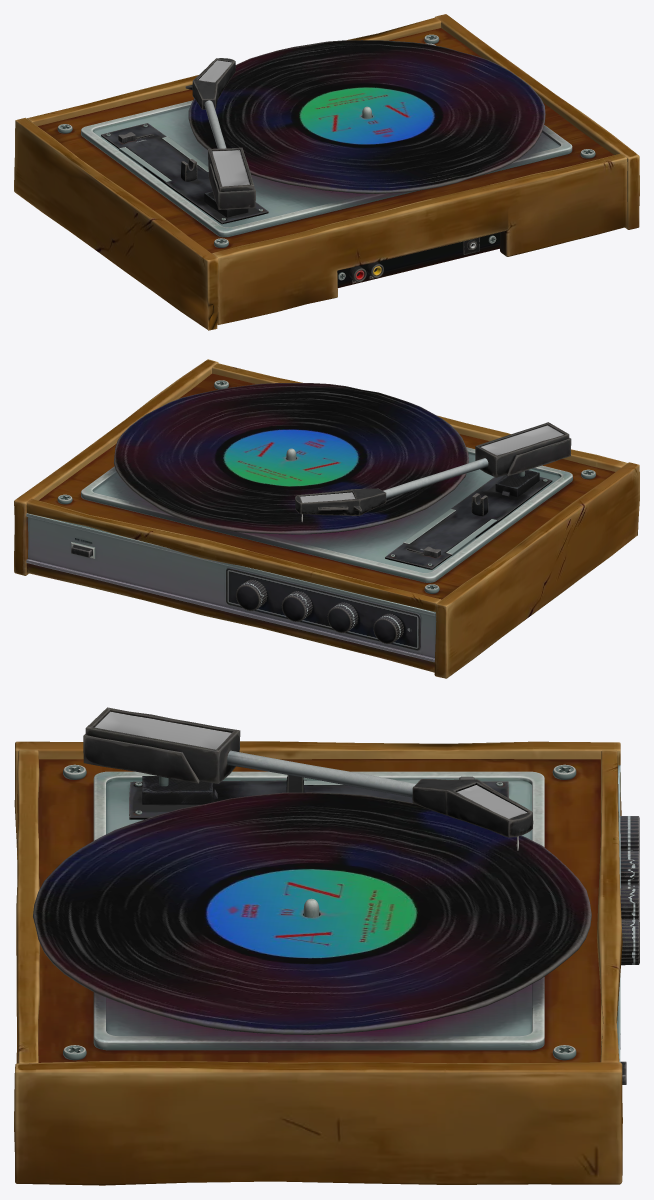
The model's file is vinyl_player_optimized.glb.
The picture shows the model from 3 angles, top to bottom: view 1: azimuth 30°, elevation 25°; view 2: azimuth 150°, elevation 25°; view 3: azimuth 270°, elevation 25°; orthographic projection. The views are drawn at different scales.
Parts seen in each view (by area): view 1: Object_4, Object_18, Object_16, Object_5, Object_7, Object_10, Object_12, Object_9, Object_15, Object_17, Object_11; view 2: Object_18, Object_4, Object_5, Object_16, Object_7, Object_10, Object_6, Object_12, Object_11, Object_9, Object_17; view 3: Object_18, Object_4, Object_16, Object_5, Object_10, Object_7, Object_12, Object_6, Object_11, Object_17.
Part boxes in pixels (x1,y1,x2,y2): Object_4: [14, 14, 639, 330]; Object_18: [188, 40, 545, 193]; Object_16: [38, 28, 614, 287]; Object_5: [81, 43, 572, 237]; Object_7: [101, 123, 268, 224]; Object_10: [208, 147, 255, 209]; Object_12: [185, 58, 235, 109]; Object_9: [119, 106, 372, 181]; Object_15: [349, 237, 479, 282]; Object_17: [57, 34, 595, 280]; Object_11: [204, 100, 226, 148]; Object_18: [113, 383, 468, 534]; Object_4: [14, 359, 639, 678]; Object_5: [26, 447, 572, 662]; Object_16: [39, 373, 615, 599]; Object_7: [226, 470, 552, 650]; Object_10: [475, 422, 571, 477]; Object_6: [236, 579, 403, 643]; Object_12: [295, 488, 386, 515]; Object_11: [383, 458, 488, 498]; Object_9: [71, 448, 524, 558]; Object_17: [57, 380, 595, 593]; Object_18: [33, 792, 591, 1034]; Object_4: [14, 741, 622, 1185]; Object_16: [38, 759, 600, 1063]; Object_5: [93, 765, 620, 1061]; Object_10: [83, 707, 240, 783]; Object_7: [129, 775, 508, 819]; Object_12: [412, 779, 533, 837]; Object_6: [620, 816, 639, 965]; Object_11: [227, 750, 415, 797]; Object_17: [63, 764, 576, 1060].
Bounding box in the file's own units: 4.56 × 1.16 × 3.63.
15 materials, 14 textured.
